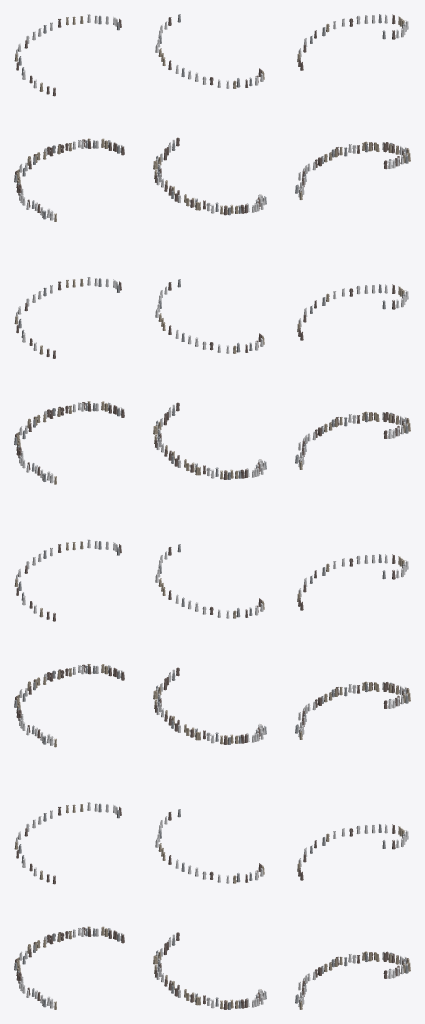
The model's file is Circle1Crowd1.obj.
3 renders of one model, left to right at view 1: azimuth 30°, elevation 25°; view 2: azimuth 150°, elevation 25°; view 3: azimuth 330°, elevation 25°, orthographic. The views are drawn at different scales.
Parts seen in each view (by area): view 1: Circle1Crowd1; view 2: Circle1Crowd1; view 3: Circle1Crowd1.
Boxes of the visible parts, bbox=[...] form: Circle1Crowd1: bbox=[14, 14, 124, 1009]; Circle1Crowd1: bbox=[153, 14, 266, 1009]; Circle1Crowd1: bbox=[295, 14, 410, 1009].
Bounding box in the file's own units: 30.65 × 293 × 25.96.
1 material, 1 textured.
